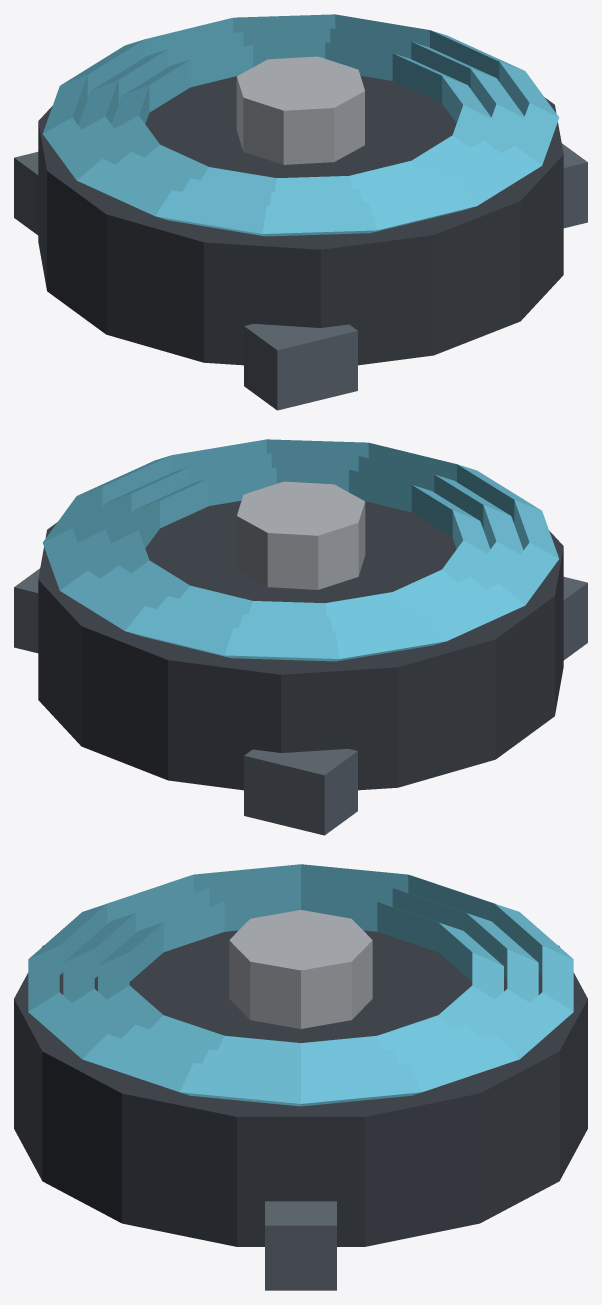
File: droid-repulsor-lifts-improved.glb
3 views of the same model, one above another, from view 1: azimuth 30°, elevation 25°; view 2: azimuth 150°, elevation 25°; view 3: azimuth 270°, elevation 25° (orthographic). The views are drawn at different scales.
Visible parts, largest first — view 1: m; view 2: m; view 3: m.
Part boxes in pixels (x1,y1,x2,y2): m: (14, 14, 587, 410); m: (14, 439, 587, 835); m: (14, 864, 587, 1290).
Size of the model in its own units: 0.1 by 0.0372 by 0.093.
